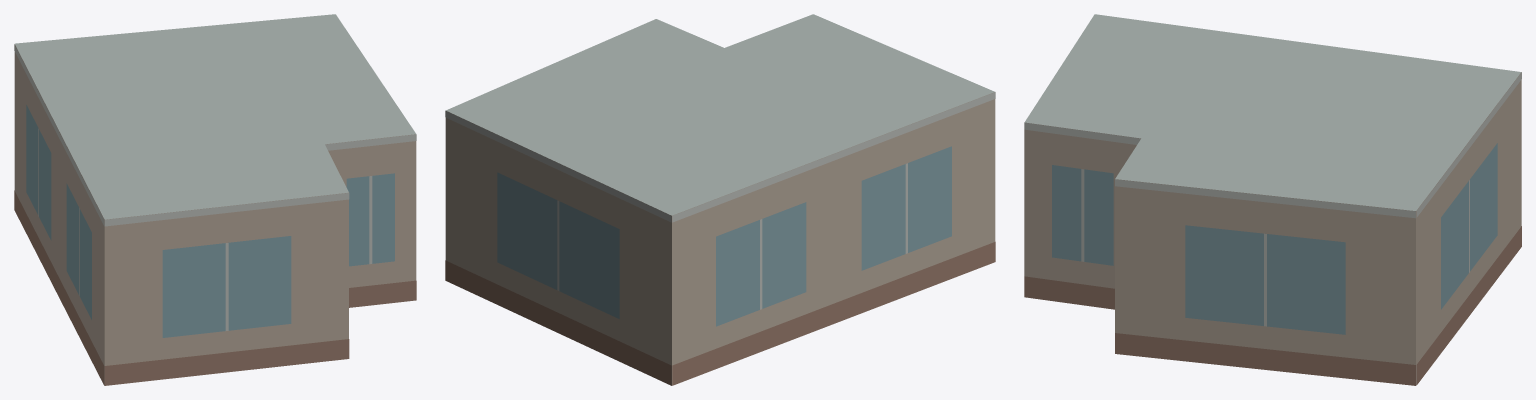
File: survey-upis-32637036.glb
3 views of the same model, side by side, from view 1: azimuth 30°, elevation 25°; view 2: azimuth 150°, elevation 25°; view 3: azimuth 270°, elevation 25° (orthographic). The views are drawn at different scales.
Visible parts, largest first — view 1: survey-upis-32637036.tmp; view 2: survey-upis-32637036.tmp; view 3: survey-upis-32637036.tmp.
Part boxes in pixels (box(x1,y1,x2,y2)): survey-upis-32637036.tmp: box(14, 14, 416, 385); survey-upis-32637036.tmp: box(445, 14, 995, 385); survey-upis-32637036.tmp: box(1024, 14, 1521, 385).
Size of the model in its own units: 7.39 by 3.05 by 7.88.
